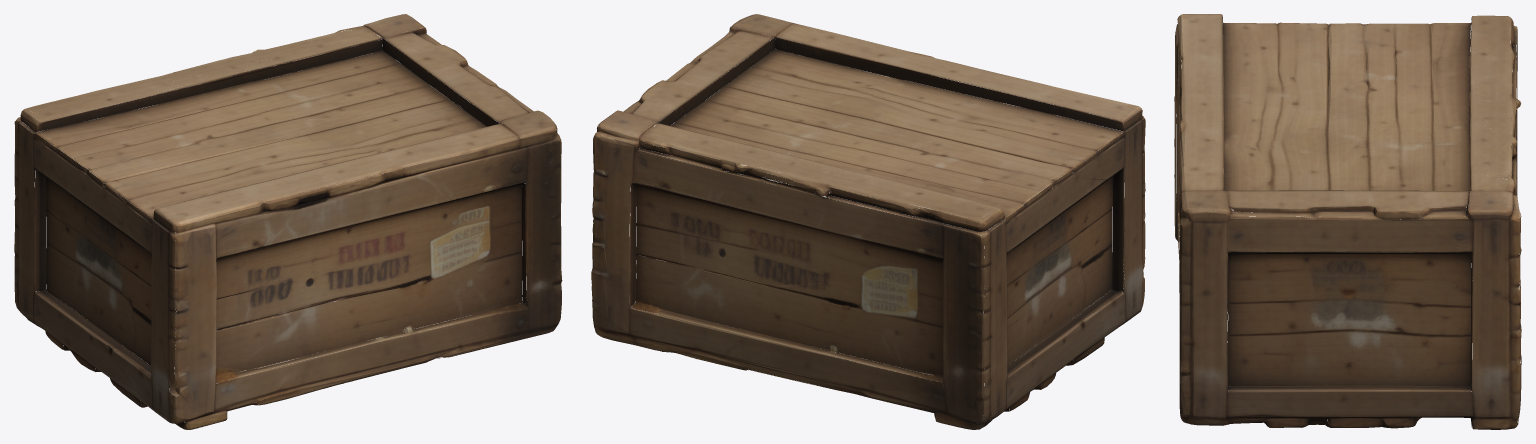
The model's file is crate_2.glb.
3 renders of one model, left to right at view 1: azimuth 30°, elevation 25°; view 2: azimuth 150°, elevation 25°; view 3: azimuth 270°, elevation 25°, orthographic. The views are drawn at different scales.
Parts seen in each view (by area): view 1: geometry_0.003; view 2: geometry_0.003; view 3: geometry_0.003.
Part boxes in pixels (left/top/right/bottom): geometry_0.003: left=14, top=14, right=562, bottom=429; geometry_0.003: left=591, top=14, right=1145, bottom=429; geometry_0.003: left=1174, top=14, right=1521, bottom=429.
Bounding box in the file's own units: 0.9968 × 0.5196 × 0.7214.
1 material, 1 textured.
